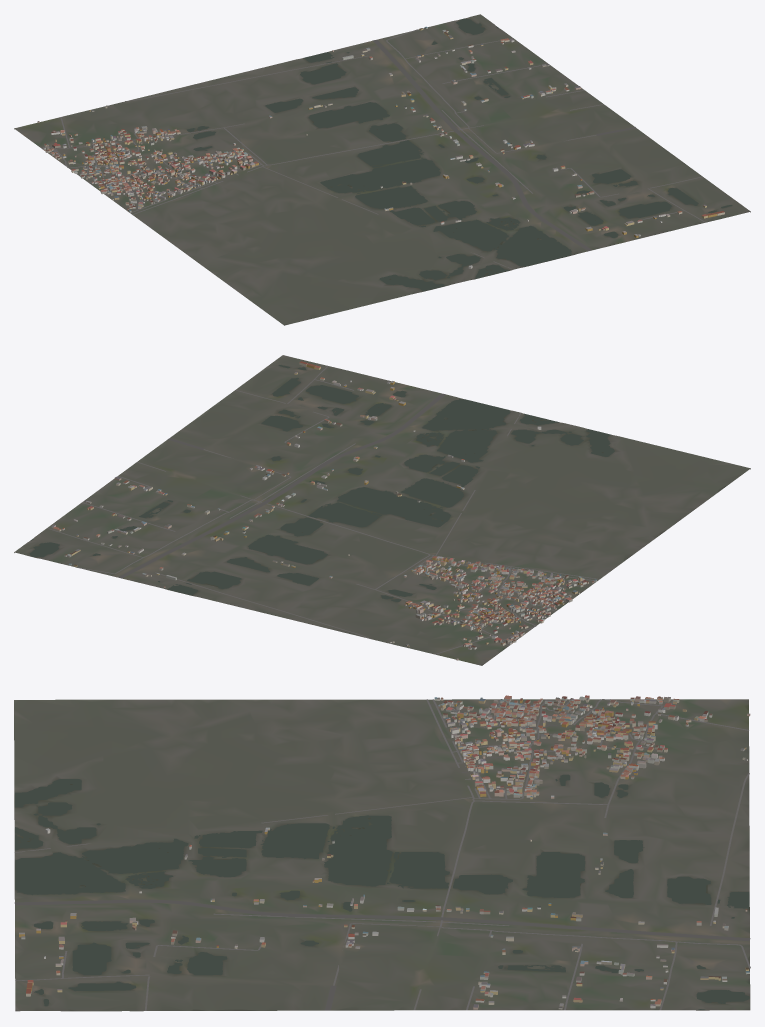
3 views of the same model, one above another, from view 1: azimuth 30°, elevation 25°; view 2: azimuth 150°, elevation 25°; view 3: azimuth 270°, elevation 25° (orthographic). The views are drawn at different scales.
Visible parts, largest first — view 1: ground, water, buildings, roads; view 2: ground, water, buildings, roads; view 3: ground, water, buildings, roads.
Boxes of the visible parts, x1=… form: ground: x1=14, y1=14, x2=750, y2=325; water: x1=187, y1=18, x2=732, y2=291; buildings: x1=37, y1=26, x2=724, y2=268; roads: x1=41, y1=29, x2=705, y2=269; ground: x1=14, y1=355, x2=750, y2=665; water: x1=29, y1=365, x2=614, y2=602; buildings: x1=51, y1=361, x2=596, y2=660; roads: x1=47, y1=366, x2=599, y2=654; ground: x1=14, y1=699, x2=750, y2=1011; water: x1=15, y1=774, x2=749, y2=1009; buildings: x1=19, y1=695, x2=750, y2=1009; roads: x1=14, y1=699, x2=750, y2=1010.
Size of the model in its own units: 1410 by 15.07 by 1406.
